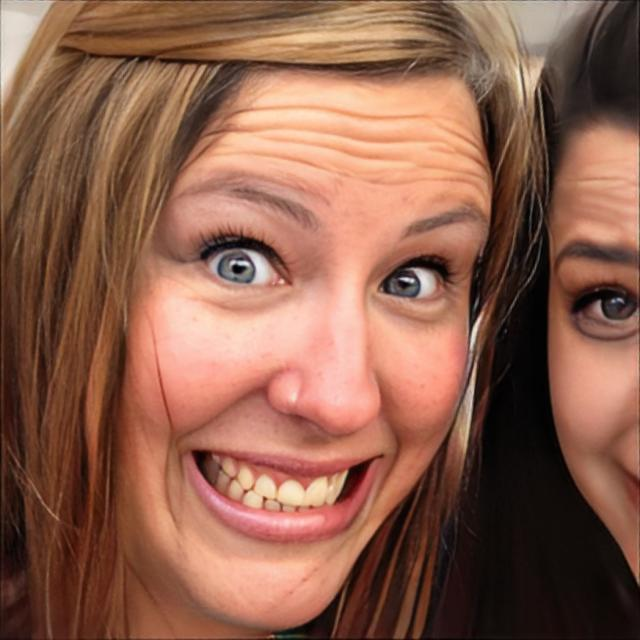surprise: (108, 57, 496, 634), (545, 117, 640, 566)
